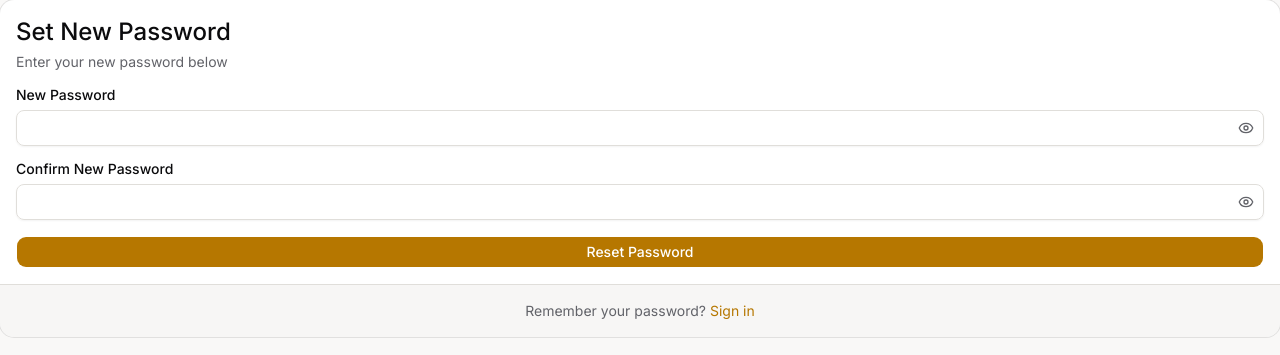
Test case: ResetPasswordForm › Submission › shows success message and link to sign-in after successful reset
In the password field labelled "New Password": coordinates (640, 128) 16,110 -> 1264,146, type "newpassword123"
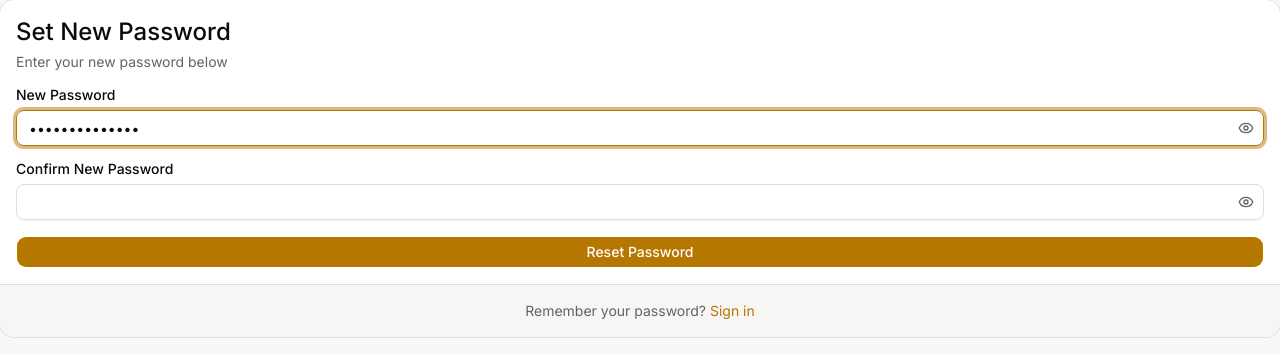
In the password field labelled "Confirm New Password": coordinates (640, 202) 16,184 -> 1264,220, type "newpassword123"
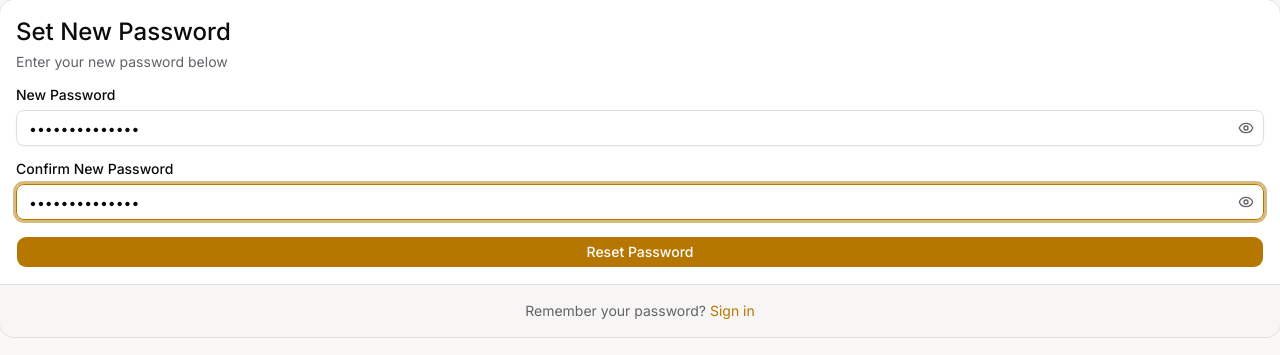
Click the button "Reset Password": coordinates (640, 252) 16,236 -> 1264,268
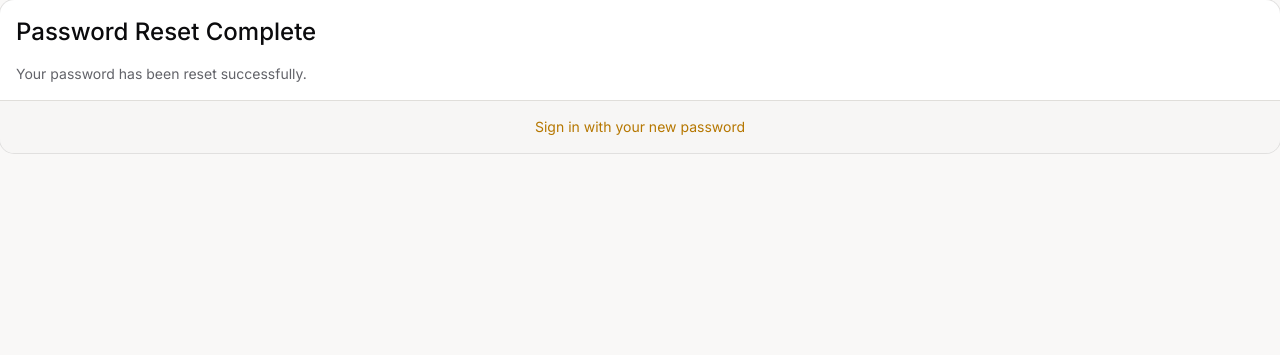
Now the text "Your password has been reset successfully." is shown, box 16,65 -> 307,82
